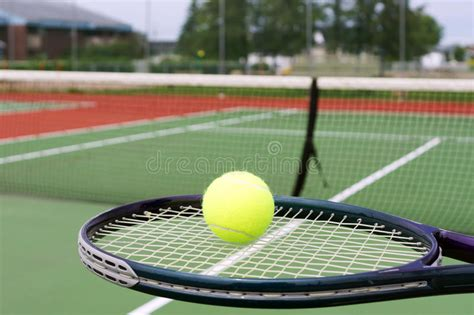tennis_ball: (202, 170, 275, 245)
